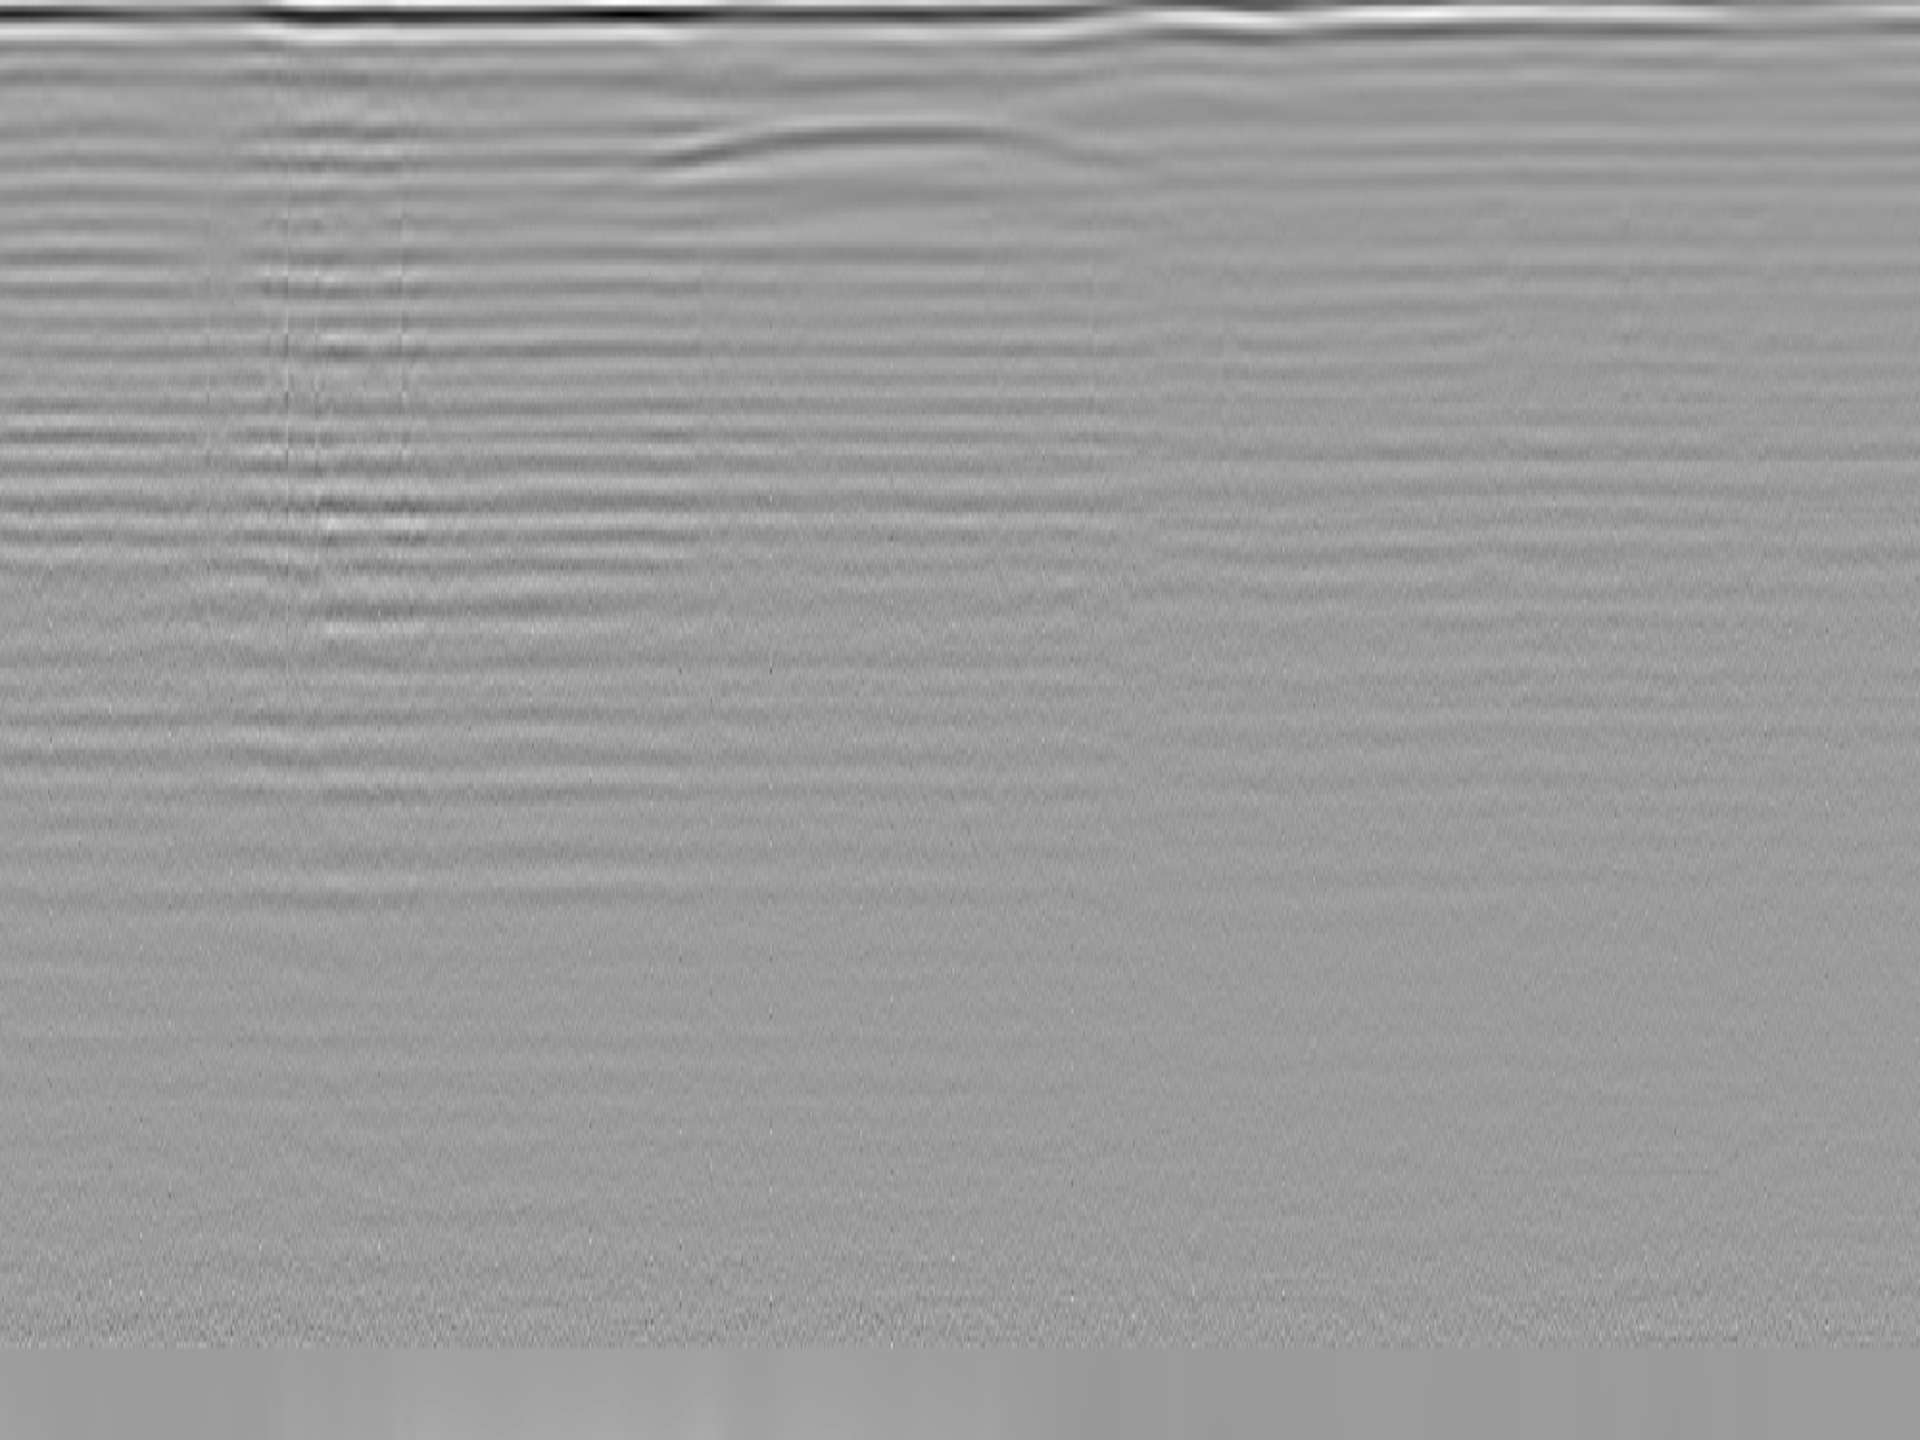Tunnel: (609, 118, 1196, 182)
